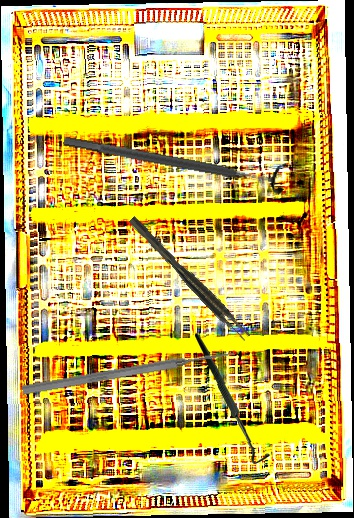Fixation Ring: (60, 123, 289, 197)
Hook Surgical: (190, 332, 275, 465)
Pusher: (21, 346, 236, 398)
Tissue Forceps: (128, 212, 252, 344)
